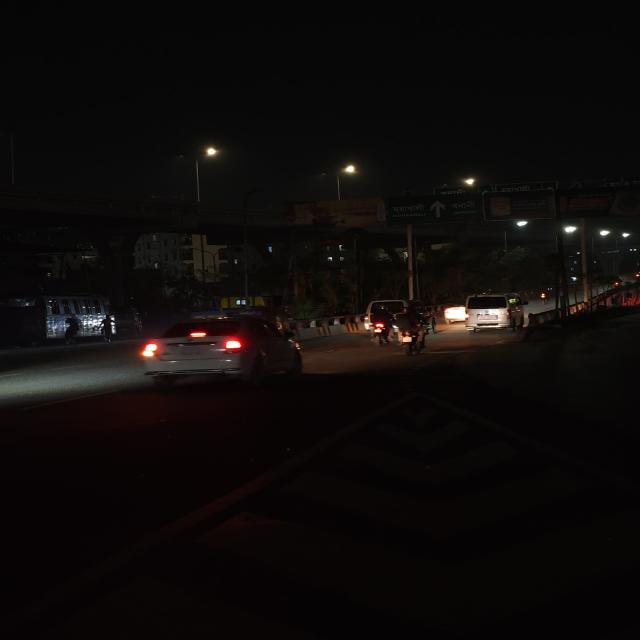bus: (0, 293, 121, 357)
car: (136, 307, 308, 389), (461, 292, 529, 334), (438, 301, 467, 324)
motorcycle: (389, 311, 432, 356), (367, 308, 392, 350)
